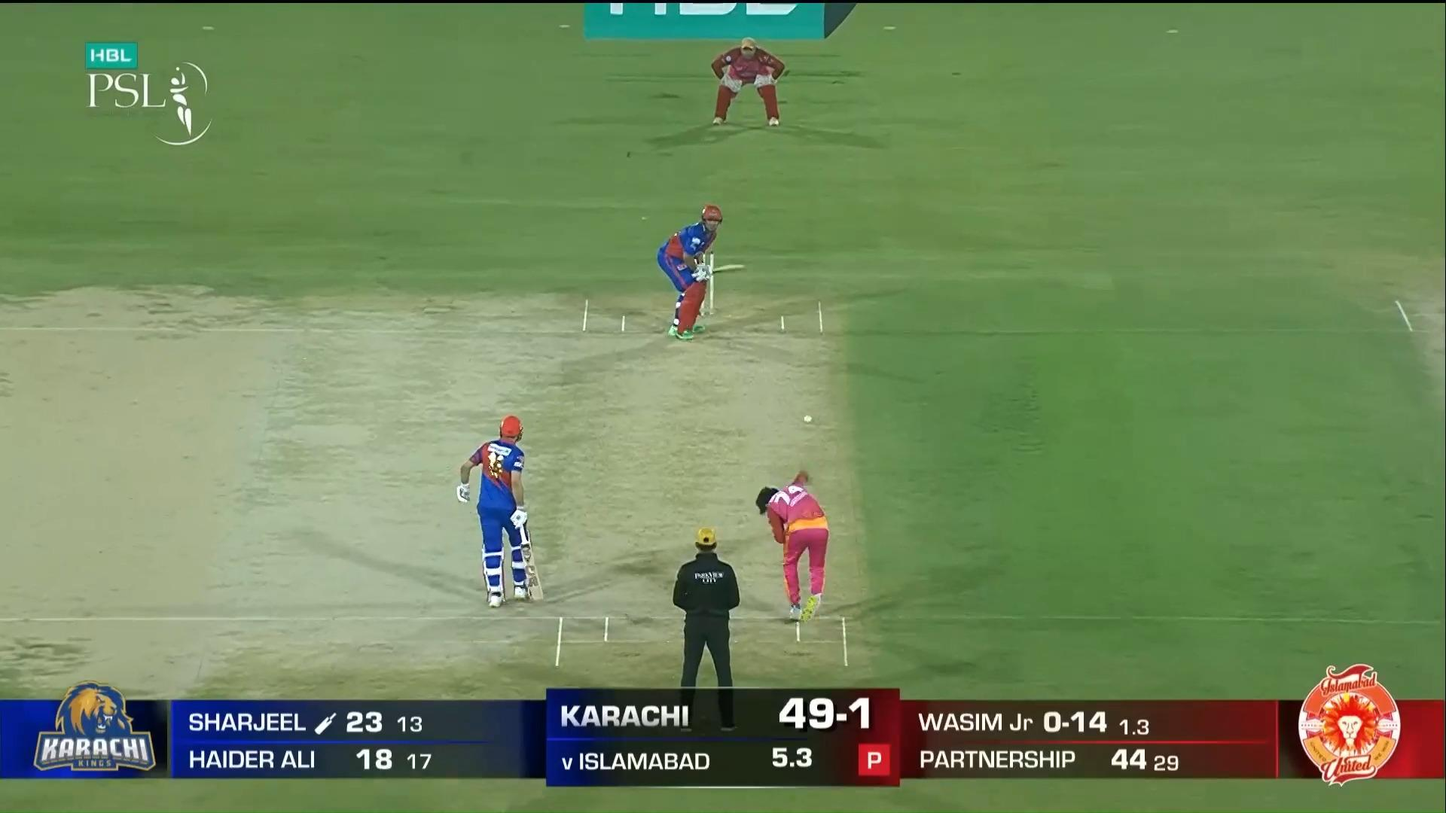batsman: (656, 203, 746, 340)
